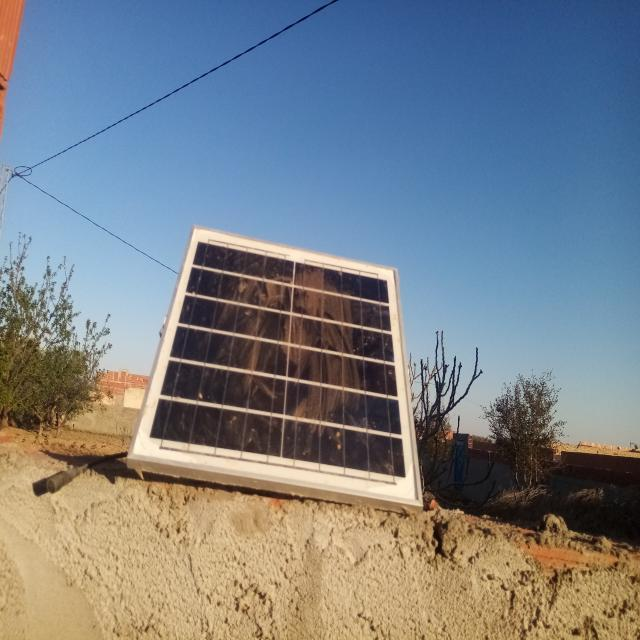faulty: (132, 234, 422, 503)
